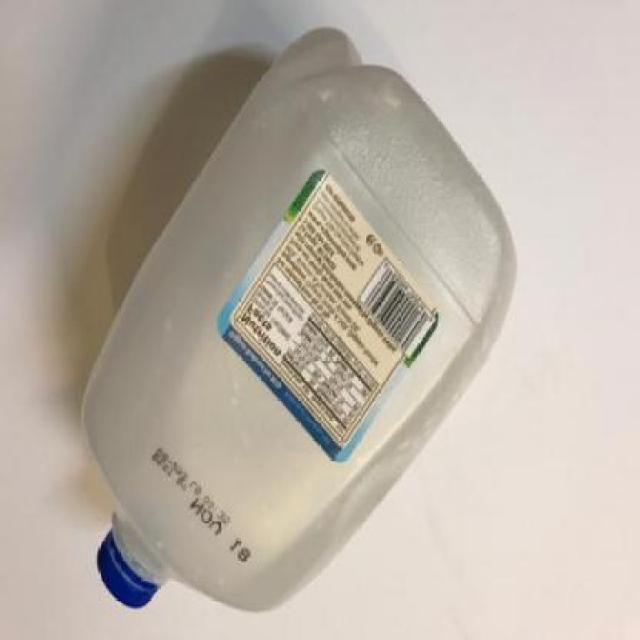PLASTIC: (84, 25, 519, 612), (98, 527, 158, 607)
